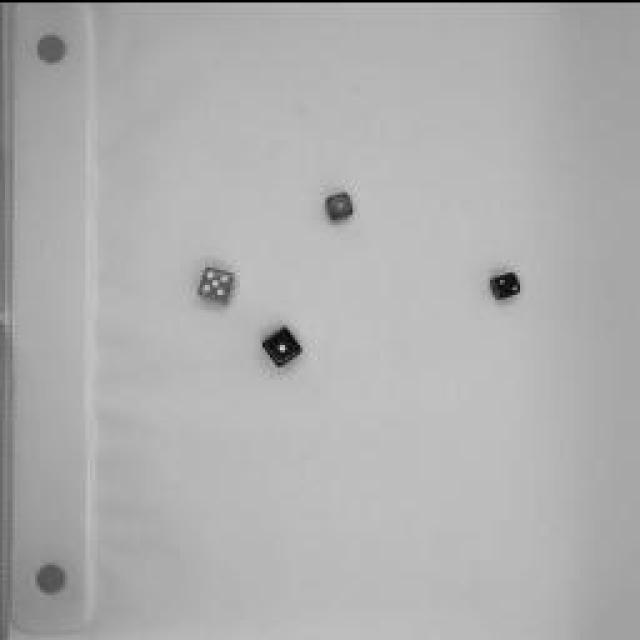dice_1: (256, 318, 312, 370), (321, 183, 364, 225)
dice_2: (485, 261, 525, 301)
dice_5: (192, 258, 248, 308)
